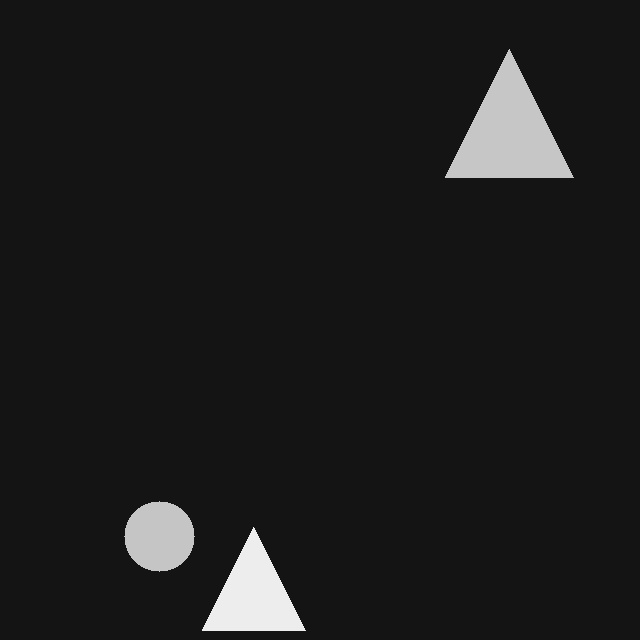circle: (124, 501, 194, 571)
triangle: (445, 49, 573, 177), (202, 527, 305, 630)
